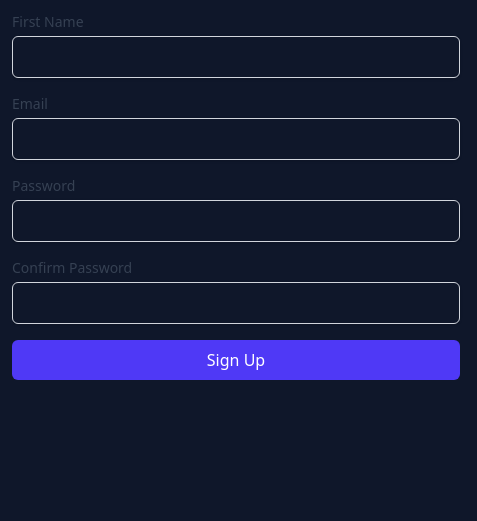
Test: SignUpForm › displays error message on signUp failure
Type "Jane" into the field labelled "First Name" at (236, 57), box [12,36,460,78]
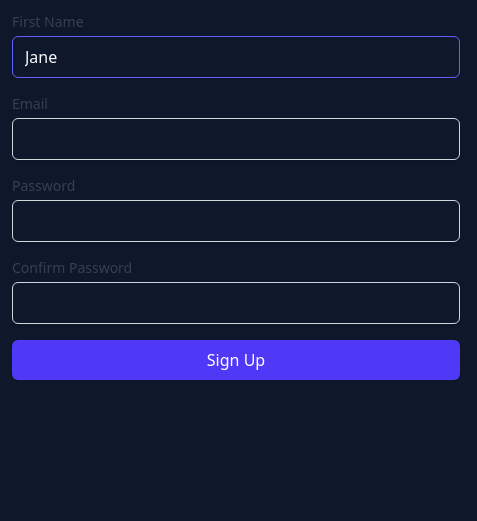
Type "test@example.com" into the field labelled "Email" at (236, 139), box [12,118,460,160]
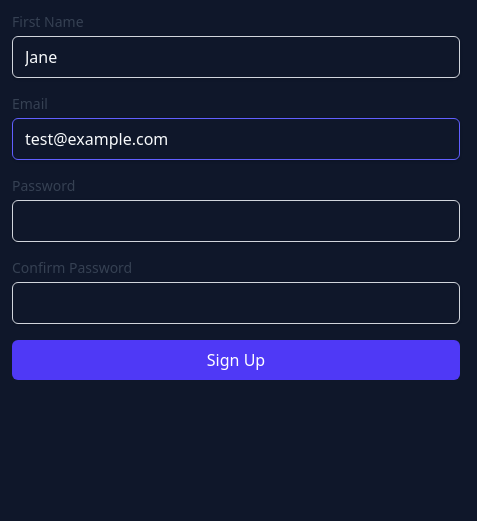
Type "Password123!" into the password field labelled "Password" at (236, 221), box [12,200,460,242]
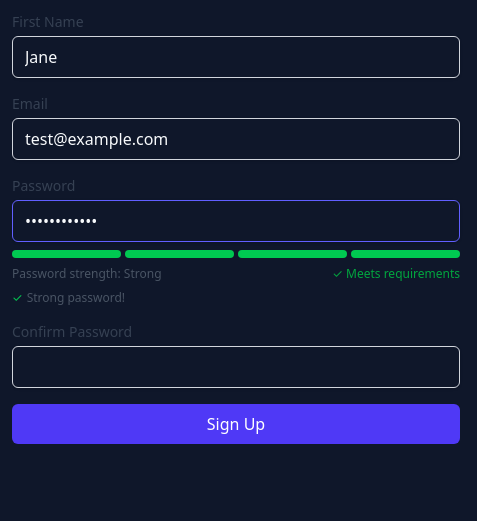
Type "Password123!" into the password field labelled "Confirm Password" at (236, 367), box [12,346,460,388]
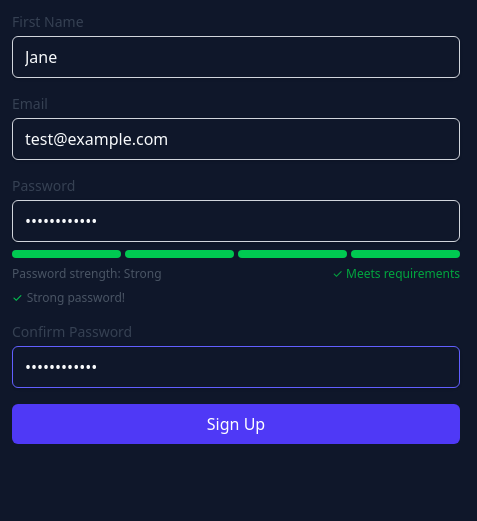
Click the button "Sign Up" at (236, 424), box [12,404,460,444]
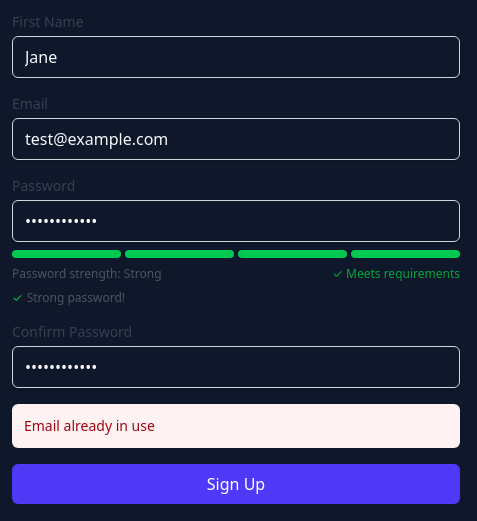
Result: the text "Email already in use" is shown at [12,404,460,448]
